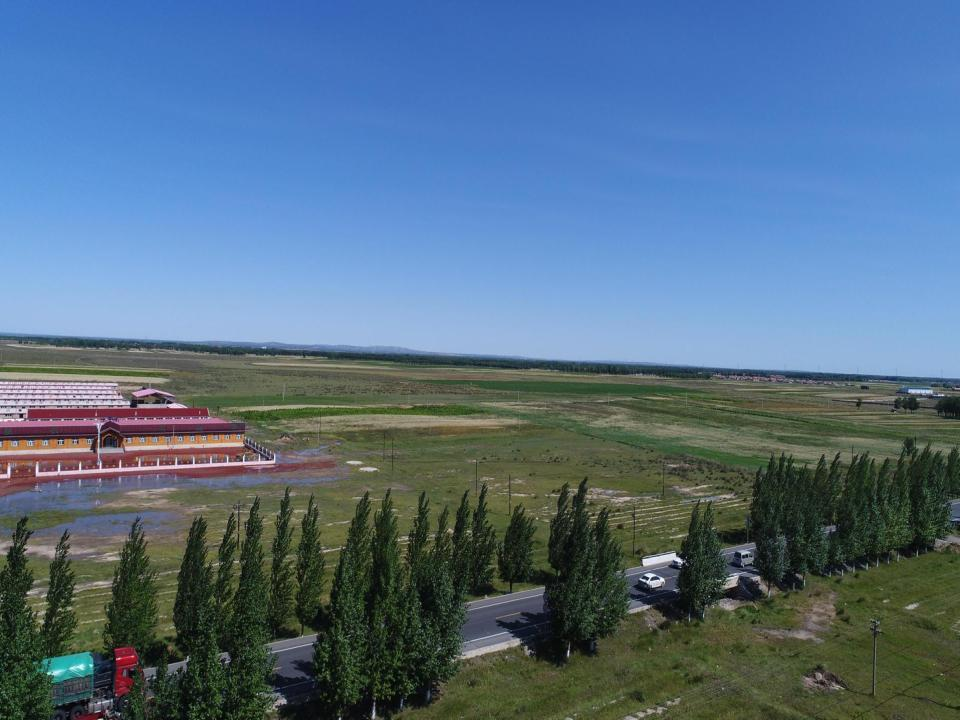car: (671, 550, 701, 570), (637, 571, 665, 591)
truck: (0, 645, 144, 718)
van: (732, 550, 756, 567)
